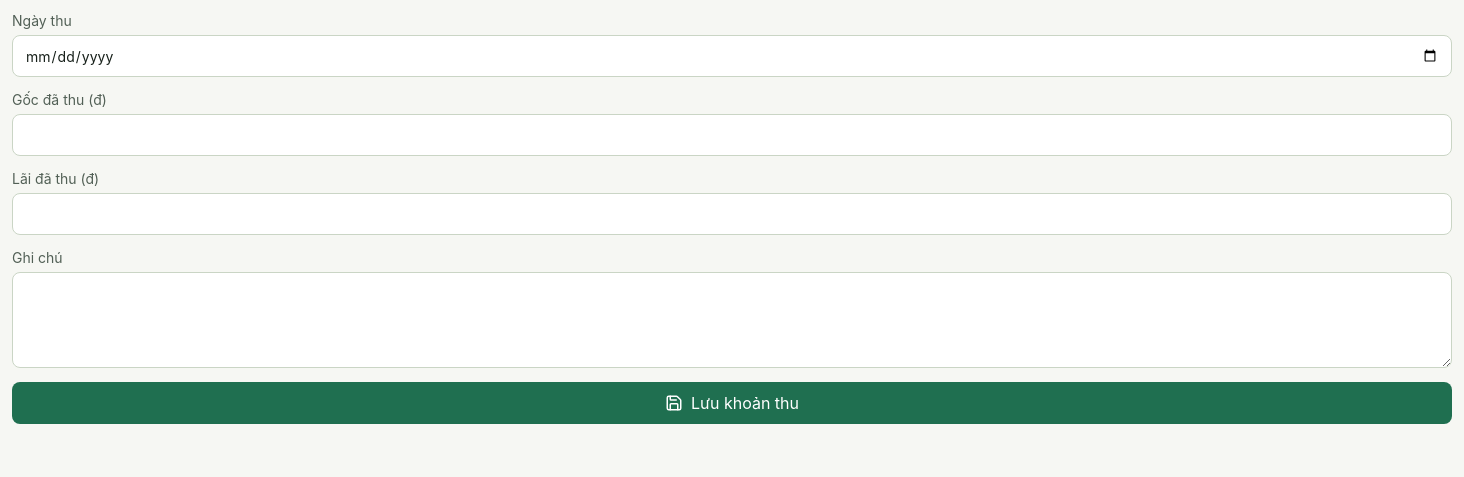
PaymentForm › requires a positive valid principal or interest amount
Type "2026-08-05" into the date field labelled "Ngày thu" at (732, 56), box [12,35,1452,77]
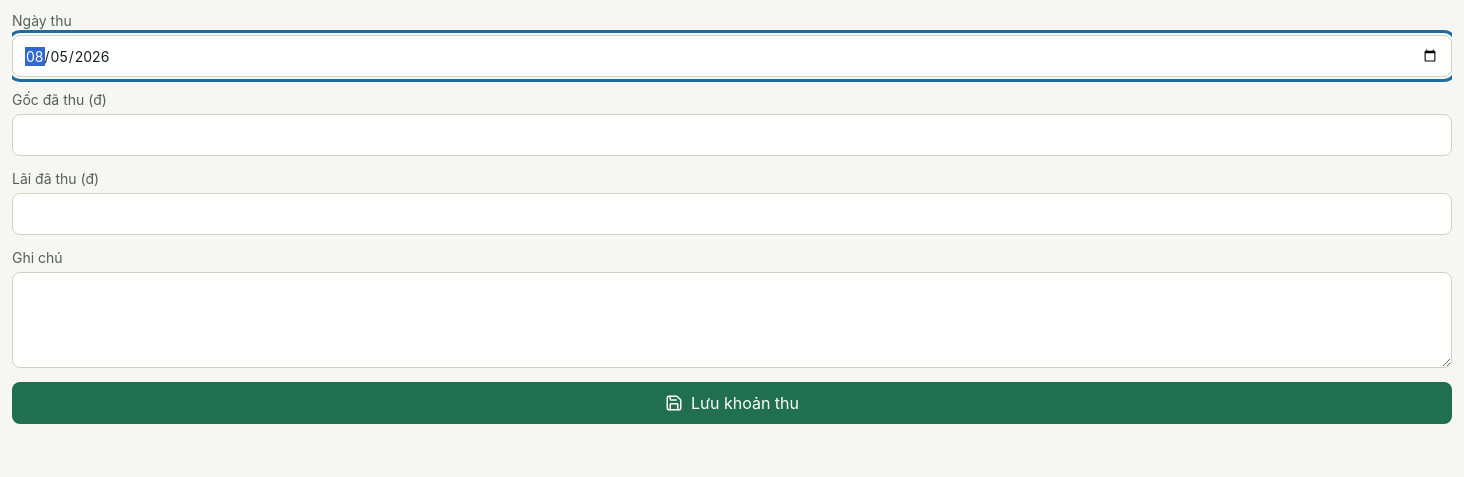
Click the button "Lưu khoản thu" at (732, 403), box [12,382,1452,424]
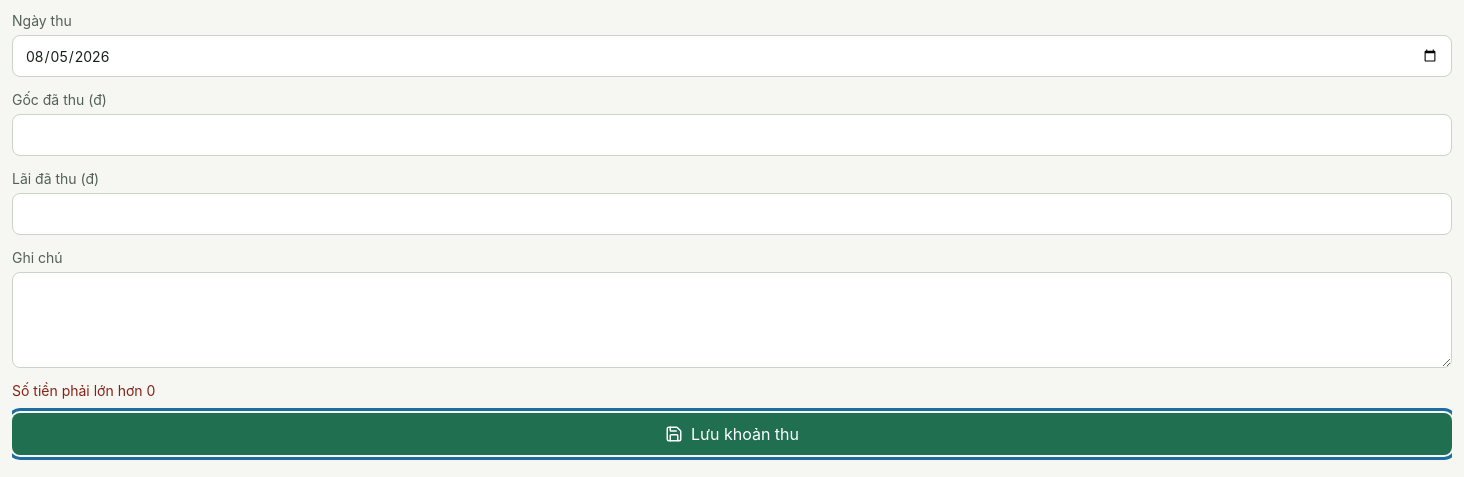
Expected: the message reads "Số tiền phải lớn hơn 0", [12,382,155,399]
Type "1.5" into the field labelled "Gốc đã thu (đ)" at (732, 135), box [12,114,1452,156]
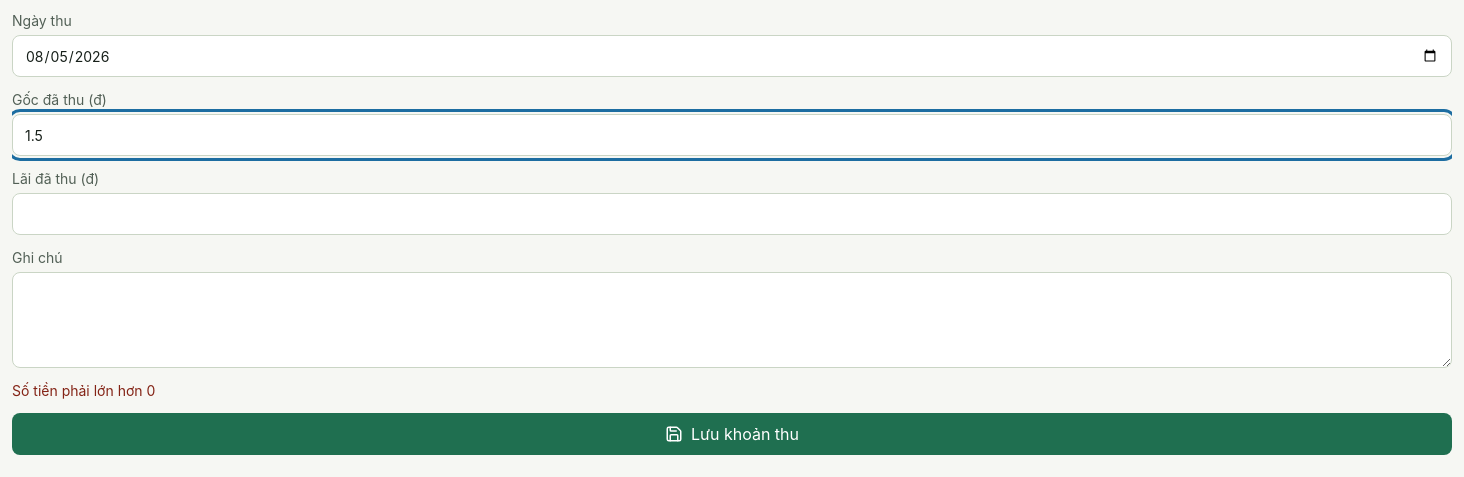
Click the button "Lưu khoản thu" at (732, 434), box [12,413,1452,455]
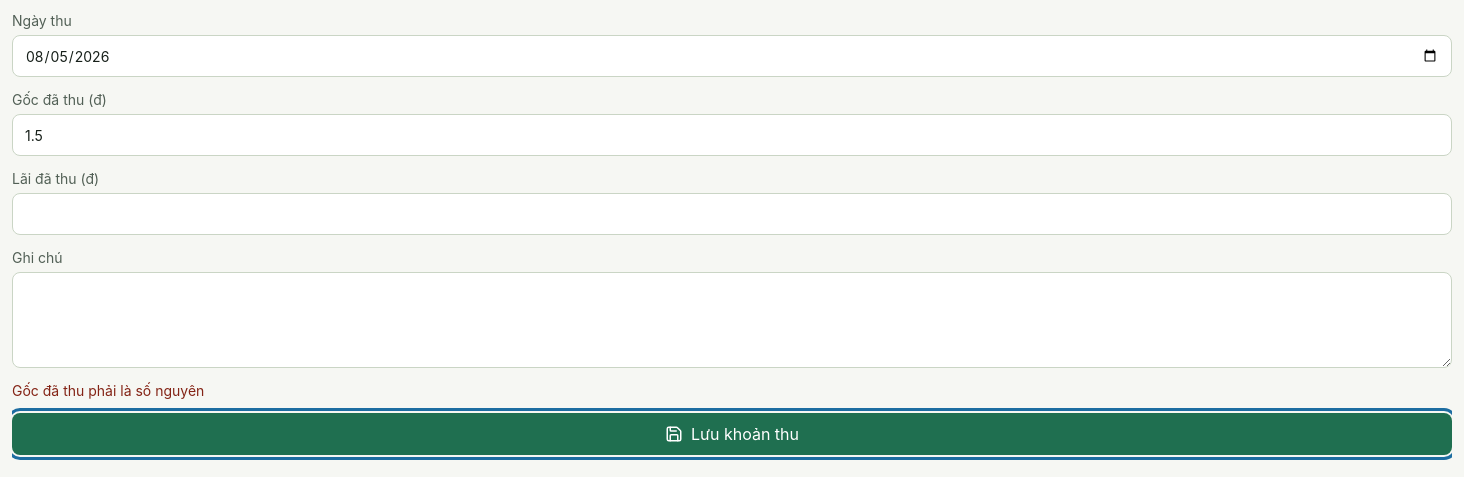
Expected: the message reads "Gốc đã thu phải là số nguyên", [12,382,204,399]
